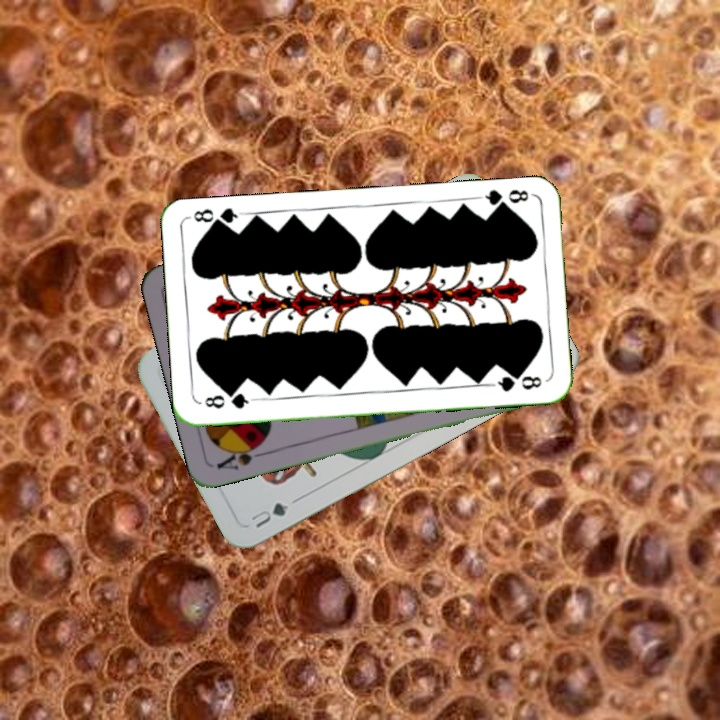G8: (475, 185, 534, 213), (200, 389, 257, 412)
GU: (247, 498, 292, 531)
SA: (212, 438, 271, 473)
